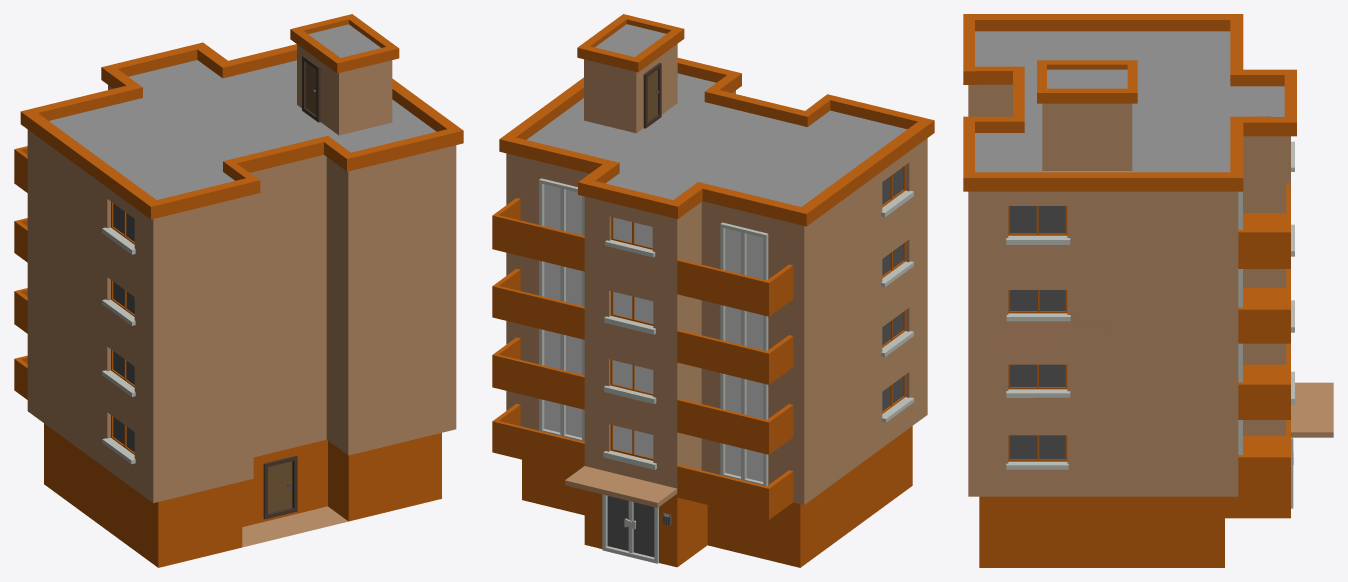
The model's file is Building A Orange.fbx.
3 views of the same model, side by side, from view 1: azimuth 30°, elevation 25°; view 2: azimuth 150°, elevation 25°; view 3: azimuth 270°, elevation 25° (orthographic). The views are drawn at different scales.
Parts seen in each view (by area): view 1: Building A Orange.001; view 2: Building A Orange.001; view 3: Building A Orange.001.
Part boxes in pixels (bbox=[...]): Building A Orange.001: bbox=[14, 14, 463, 567]; Building A Orange.001: bbox=[492, 14, 934, 567]; Building A Orange.001: bbox=[963, 14, 1333, 567].
Size of the model in its own units: 1534 by 1466 by 2039.
